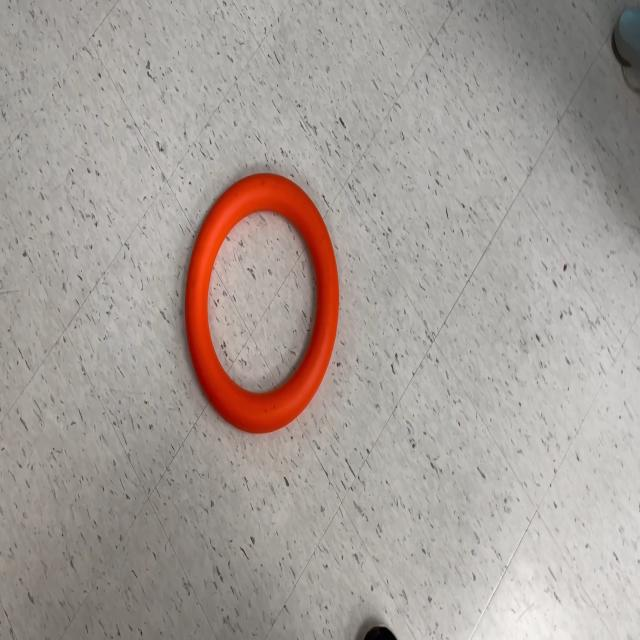note: (184, 172, 340, 432)
